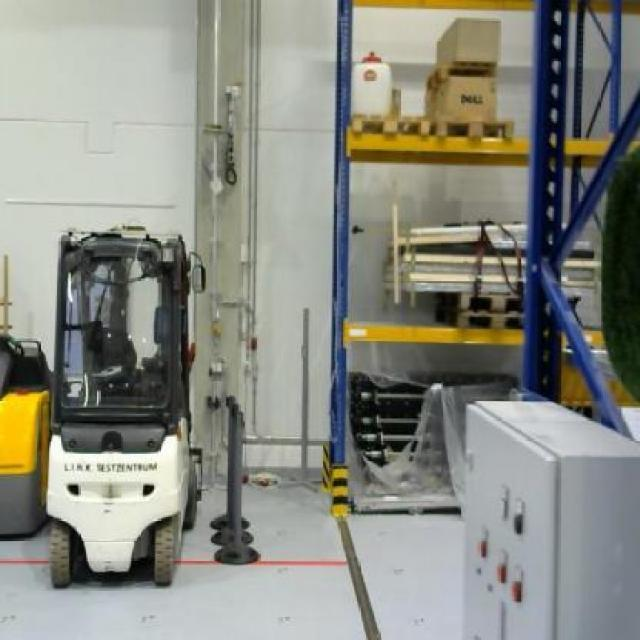box: (432, 16, 500, 66), (422, 76, 496, 118)
